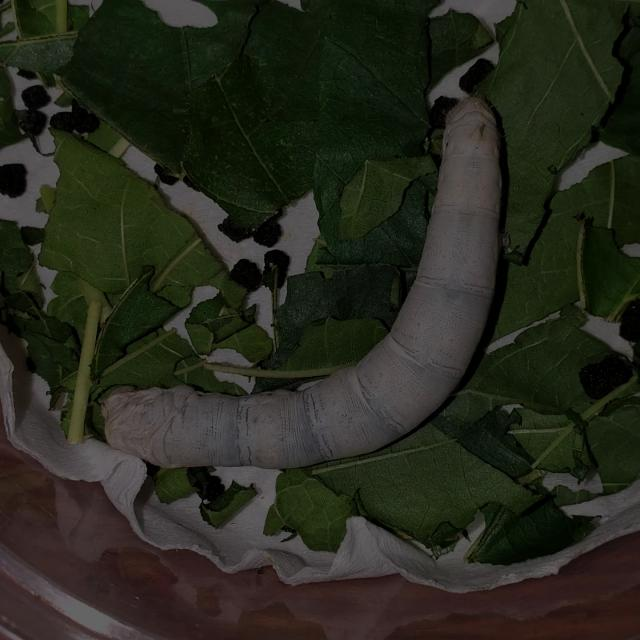Healthy: (73, 60, 522, 509)
